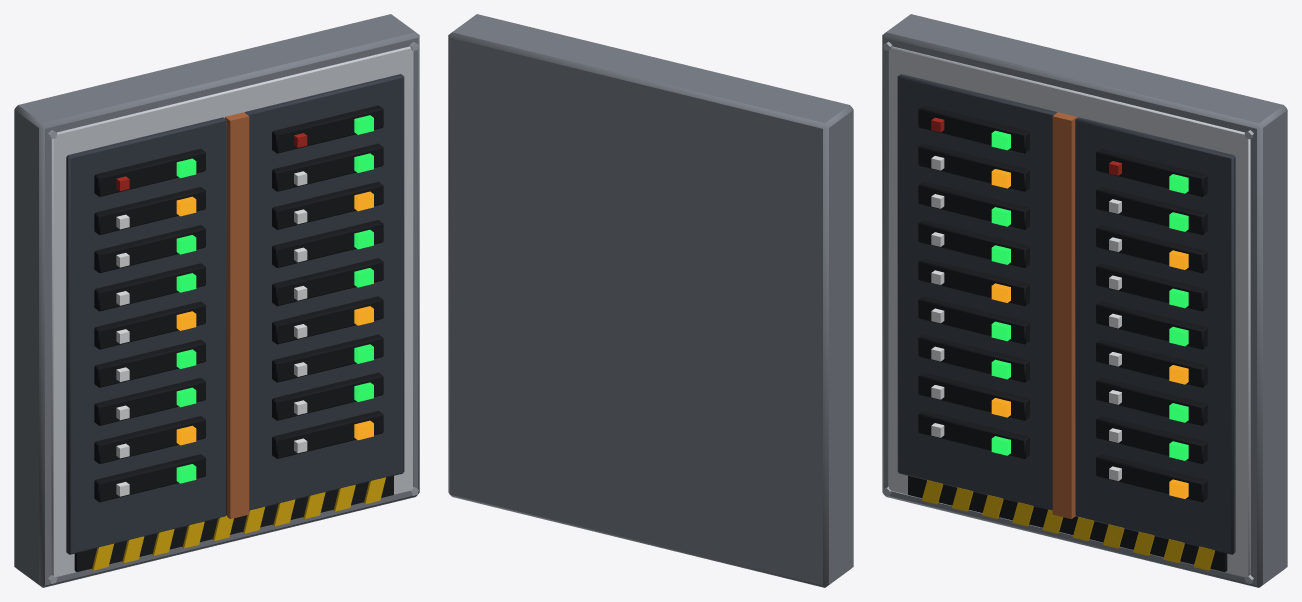
The model's file is junction_distribution_board.glb.
3 views of the same model, side by side, from view 1: azimuth 30°, elevation 25°; view 2: azimuth 150°, elevation 25°; view 3: azimuth 330°, elevation 25° (orthographic).
Visible parts, largest first — view 1: junction_distribution_board; view 2: junction_distribution_board; view 3: junction_distribution_board.
Part boxes in pixels (box(x1,y1,x2,y2)): junction_distribution_board: box(14, 14, 419, 587); junction_distribution_board: box(448, 14, 853, 587); junction_distribution_board: box(882, 14, 1287, 587).
Size of the model in its own units: 1.2 by 1.4 by 0.235.
